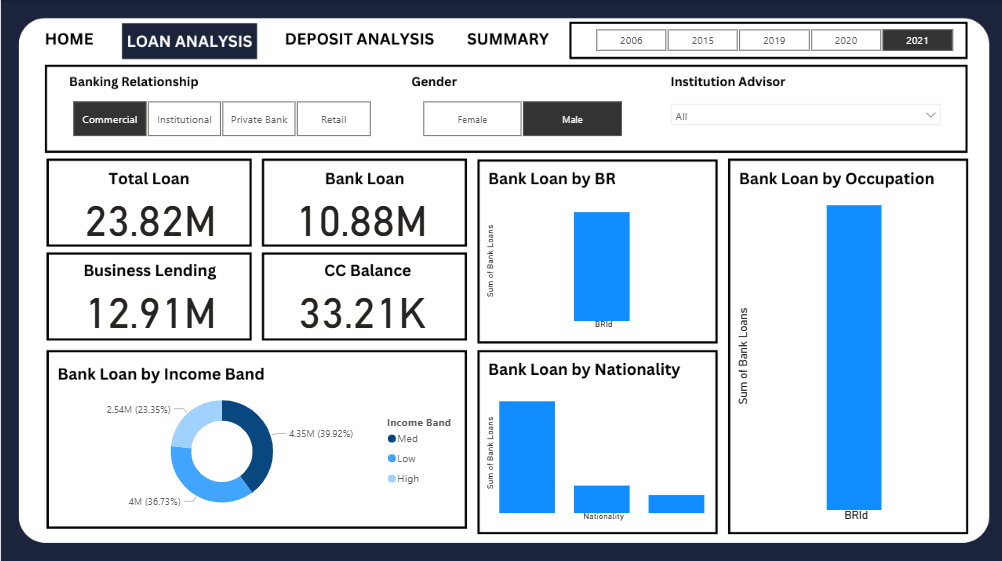

The dashboard page shown, as its layout file describes it:
{"tool":"powerbi","page":{"name":"Loan Analysis","canvas":[1280,720],"ordinal":1},"visuals":[{"type":"slicer","fields":{"Values":["banking_case customer.Year of Joining"]},"box":[733.3,32.2,504.1,34.9],"z":0},{"type":"actionButton","box":[36.4,31.7,99.7,39.6],"z":1000},{"type":"actionButton","box":[348.2,31.7,221.6,39.6],"z":2000},{"type":"actionButton","box":[587.1,31.7,123.4,39.6],"z":3000},{"type":"card","fields":{"Values":["banking_case customer.Total Loan"]},"box":[100.9,243.7,179.5,65.5],"z":4000},{"type":"card","fields":{"Values":["Sum(banking_case customer.Bank Loans)"]},"box":[369.5,243.7,179.5,65.5],"z":5000},{"type":"card","fields":{"Values":["Sum(banking_case customer.Business Lending)"]},"box":[100.9,360.4,179.5,65.5],"z":6000},{"type":"card","fields":{"Values":["Sum(banking_case customer.Credit Card Balance)"]},"box":[370.8,360.4,179.5,65.5],"z":7000},{"type":"donutChart","fields":{"Category":["banking_case customer.Income Band"],"Y":["Sum(banking_case customer.Bank Loans)"]},"box":[66.8,488.8,530.7,176.9],"z":8000},{"type":"clusteredColumnChart","fields":{"Category":["banking_case customer.BRId"],"Y":["Sum(banking_case customer.Bank Loans)"]},"box":[613.3,243.7,293.5,182.1],"z":9000},{"type":"clusteredColumnChart","fields":{"Category":["banking_case customer.Nationality"],"Y":["Sum(banking_case customer.Bank Loans)"]},"box":[613.3,488.8,293.5,182.1],"z":10000},{"type":"clusteredColumnChart","fields":{"Category":["banking_case customer.BRId"],"Y":["Sum(banking_case customer.Bank Loans)"]},"box":[933.7,245.3,292.8,425.7],"z":11000},{"type":"slicer","fields":{"Values":["banking_case customer.BRId"]},"box":[66.8,123.2,428.5,57.7],"z":12000},{"type":"slicer","fields":{"Values":["banking_case customer.GenderId"]},"box":[512.4,123.2,302.7,57.7],"z":13000},{"type":"slicer","fields":{"Values":["banking_case customer.IAId"]},"box":[843.9,123.2,364.3,57.7],"z":14000}]}

Visuals, with their boxes in screenshot pixels (x1, y1, x2, y2), scaled from the page's 1280x720 canvas onto the 1002x561 screenshot:
slicer - banking_case customer.Year of Joining: locate(574, 25, 969, 52)
actionButton: locate(28, 25, 107, 56)
actionButton: locate(273, 25, 446, 56)
actionButton: locate(460, 25, 556, 56)
card - banking_case customer.Total Loan: locate(79, 190, 220, 241)
card - Sum(banking_case customer.Bank Loans): locate(289, 190, 430, 241)
card - Sum(banking_case customer.Business Lending): locate(79, 281, 220, 332)
card - Sum(banking_case customer.Credit Card Balance): locate(290, 281, 431, 332)
donutChart - banking_case customer.Income Band x Sum(banking_case customer.Bank Loans): locate(52, 381, 468, 519)
clusteredColumnChart - banking_case customer.BRId x Sum(banking_case customer.Bank Loans): locate(480, 190, 710, 332)
clusteredColumnChart - banking_case customer.Nationality x Sum(banking_case customer.Bank Loans): locate(480, 381, 710, 523)
clusteredColumnChart - banking_case customer.BRId x Sum(banking_case customer.Bank Loans): locate(731, 191, 960, 523)
slicer - banking_case customer.BRId: locate(52, 96, 388, 141)
slicer - banking_case customer.GenderId: locate(401, 96, 638, 141)
slicer - banking_case customer.IAId: locate(661, 96, 946, 141)
